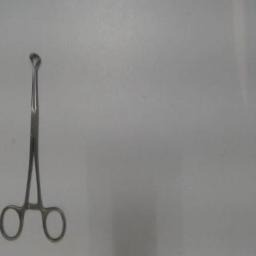Babcock Tissue Forceps: (0, 50, 70, 244)
